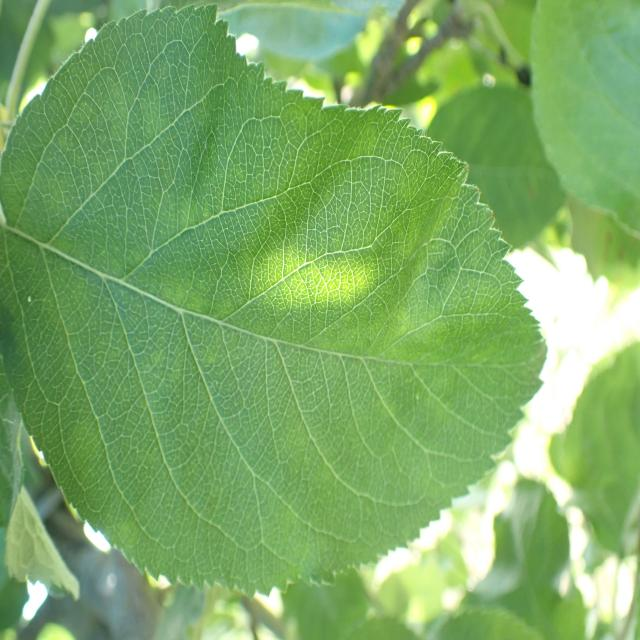healthy: (0, 4, 548, 599), (528, 0, 640, 237)
